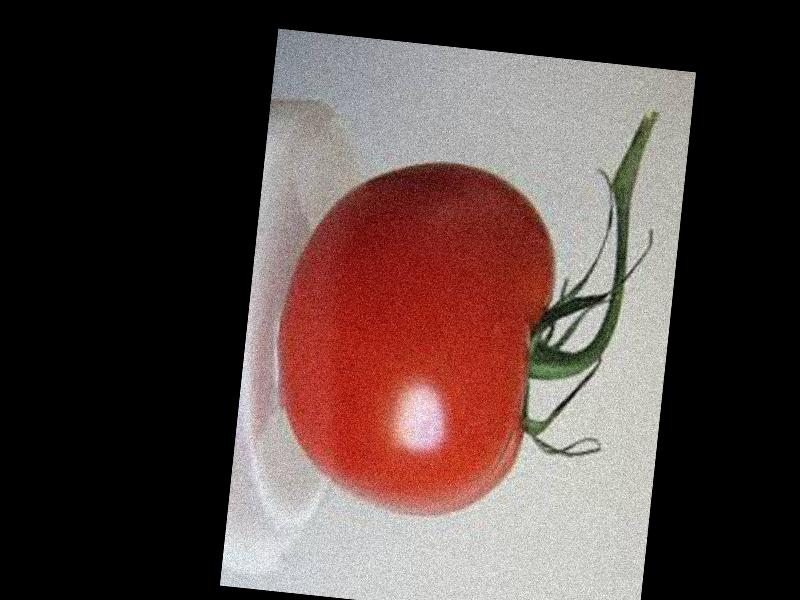Tomato: (263, 146, 565, 526)
